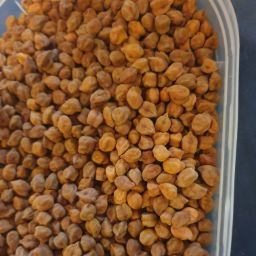Black Chickpeas: (2, 3, 218, 256), (13, 1, 214, 155), (4, 131, 218, 256)
